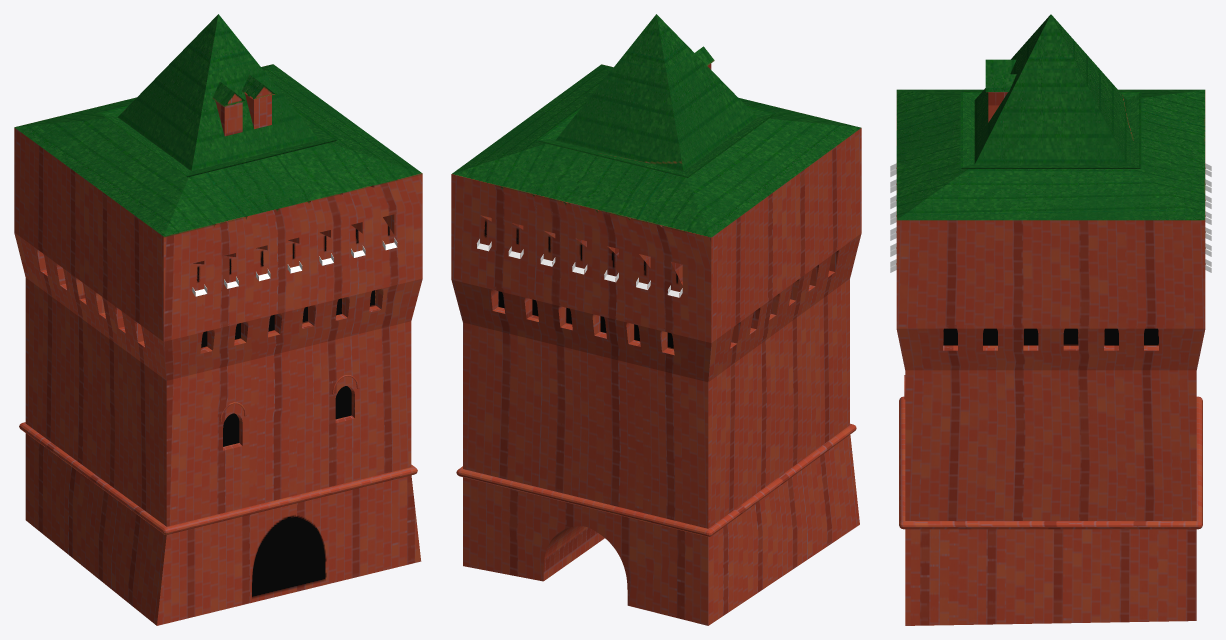
Rendered from Kvadratnaya (2).fbx.
3 renders of one model, left to right at view 1: azimuth 30°, elevation 25°; view 2: azimuth 150°, elevation 25°; view 3: azimuth 270°, elevation 25°, orthographic. The views are drawn at different scales.
Parts seen in each view (by area): view 1: Куб; view 2: Куб; view 3: Куб.
Part boxes in pixels (box(x1,y1,x2,y2)): Куб: box(14, 14, 422, 625); Куб: box(451, 14, 861, 625); Куб: box(890, 14, 1211, 625).
Bounding box in the file's own units: 642 × 1225 × 654.
1 material, 1 textured.
